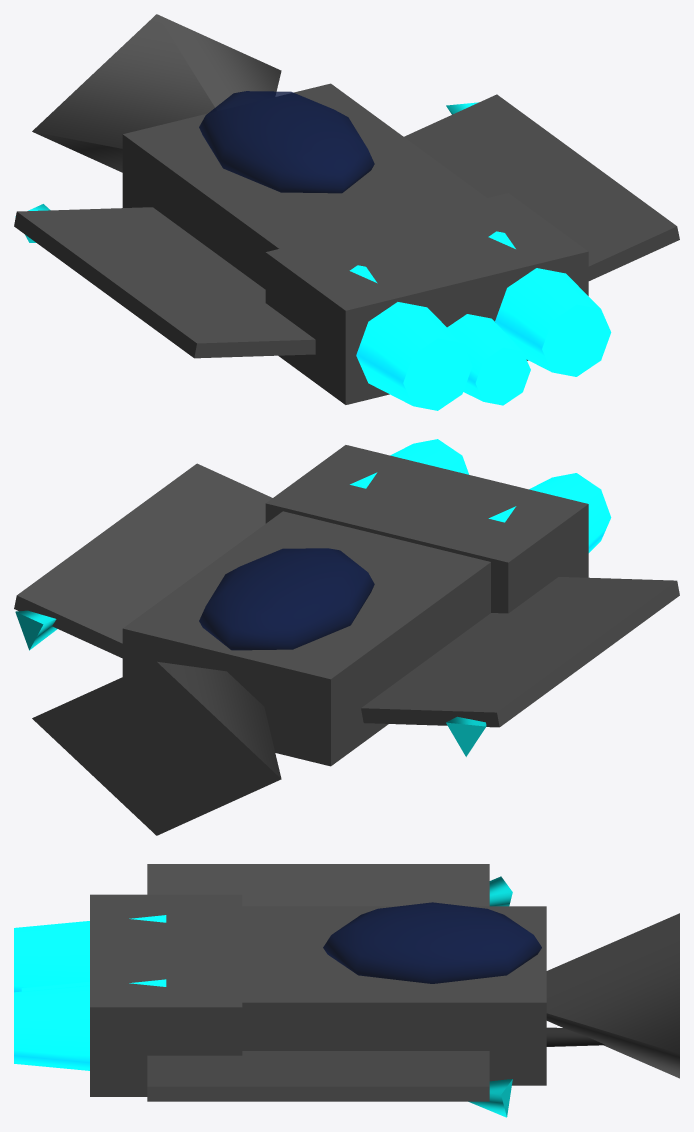
Rendered from player_ship_SF-01.glb.
3 views of the same model, one above another, from view 1: azimuth 30°, elevation 25°; view 2: azimuth 150°, elevation 25°; view 3: azimuth 270°, elevation 25° (orthographic). The views are drawn at different scales.
Parts seen in each view (by area): view 1: Body_Main, Body_Rear, LeftWing, RightWing, Body_Front, Cockpit, Engine1, Engine2, Engine3; view 2: Body_Main, Body_Front, Body_Rear, LeftWing, RightWing, Cockpit, Engine1, Engine2, RightWing_Tip, LeftWing_Tip; view 3: Body_Main, Body_Rear, RightWing, Body_Front, LeftWing, Cockpit, Engine2, Engine1, RightWing_Tip, MainGun, LeftWing_Tip.
Boxes of the visible parts, box(x1,y1,x2,y2) form: Body_Main: box(122, 83, 486, 289); Body_Rear: box(265, 193, 588, 404); LeftWing: box(14, 207, 315, 358); RightWing: box(404, 94, 679, 280); Body_Front: box(32, 14, 281, 172); Cockpit: box(199, 91, 374, 193); Engine1: box(349, 265, 472, 410); Engine2: box(488, 231, 611, 376); Engine3: box(447, 314, 530, 405); Body_Main: box(122, 511, 490, 766); Body_Front: box(32, 661, 281, 835); Body_Rear: box(265, 445, 588, 613); LeftWing: box(361, 577, 679, 727); RightWing: box(14, 463, 272, 658); Cockpit: box(199, 548, 374, 650); Engine1: box(488, 473, 611, 552); Engine2: box(350, 439, 469, 488); RightWing_Tip: box(15, 610, 57, 650); LeftWing_Tip: box(446, 716, 486, 756); Body_Main: box(242, 906, 546, 1085); Body_Rear: box(90, 894, 242, 1096); RightWing: box(147, 1051, 489, 1101); Body_Front: box(546, 913, 679, 1078); LeftWing: box(147, 864, 489, 906); Cockpit: box(323, 902, 541, 983); Engine2: box(14, 979, 166, 1070); Engine1: box(14, 915, 166, 992); RightWing_Tip: box(468, 1079, 512, 1117); MainGun: box(546, 1027, 604, 1046); LeftWing_Tip: box(489, 876, 512, 906).
Bounding box in the file's own units: 7 × 2.4 × 8.75.
